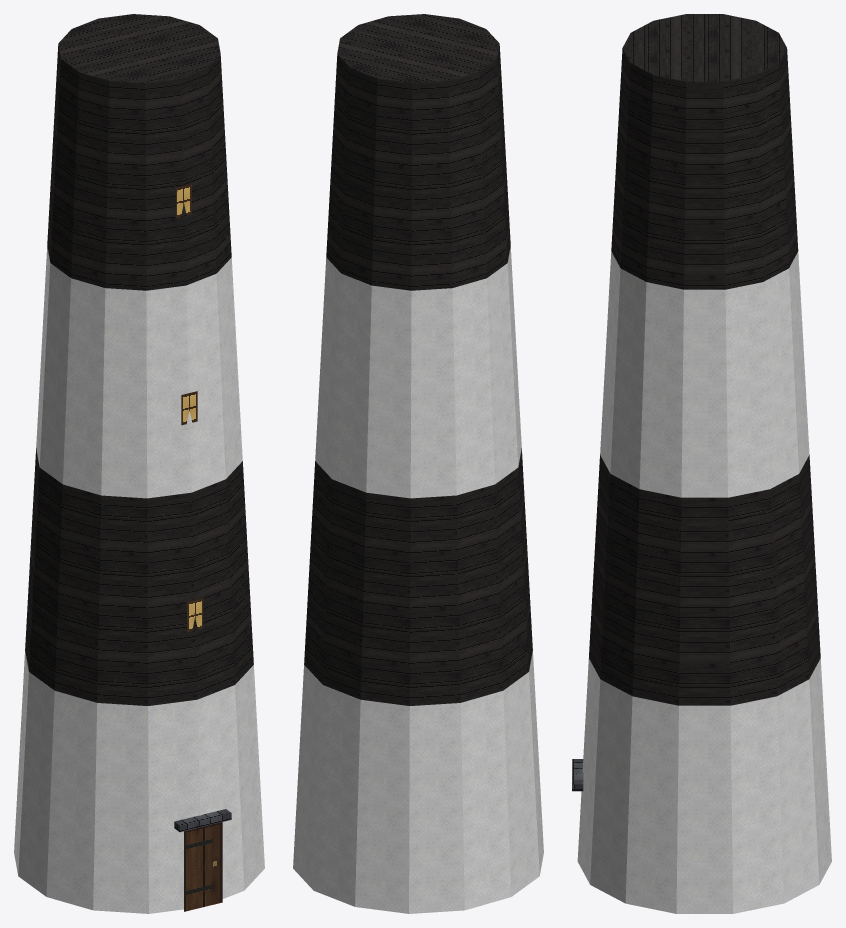
Rendered from faro_torre.obj.
3 renders of one model, left to right at view 1: azimuth 30°, elevation 25°; view 2: azimuth 150°, elevation 25°; view 3: azimuth 270°, elevation 25°, orthographic.
Visible parts, largest first — view 1: faro_torre; view 2: faro_torre; view 3: faro_torre.
Boxes of the visible parts, <box> form: faro_torre: <box>14,14,264,913</box>; faro_torre: <box>293,14,543,913</box>; faro_torre: <box>572,14,831,913</box>.
Size of the model in its own units: 6.63 by 24 by 6.95.
6 materials, 6 textured.
